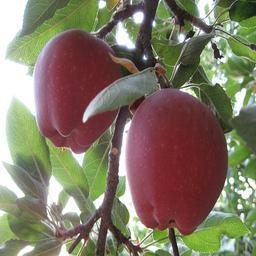apple: (124, 88, 229, 236), (34, 28, 132, 154)
